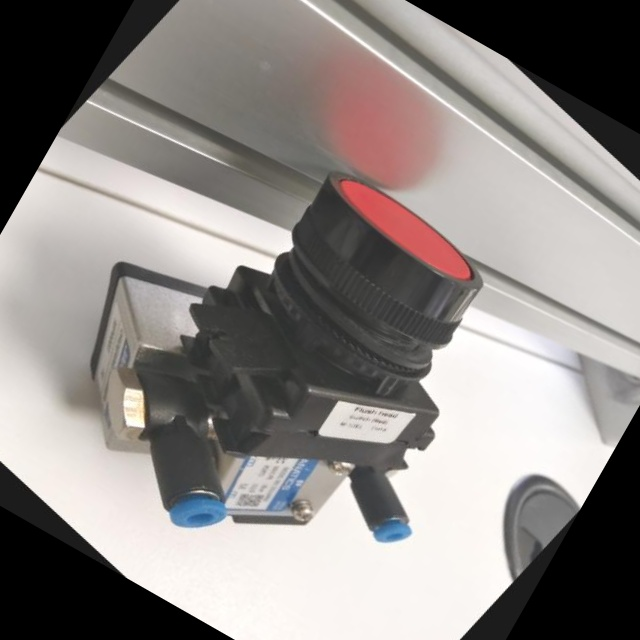push button: (0, 40, 622, 640)
